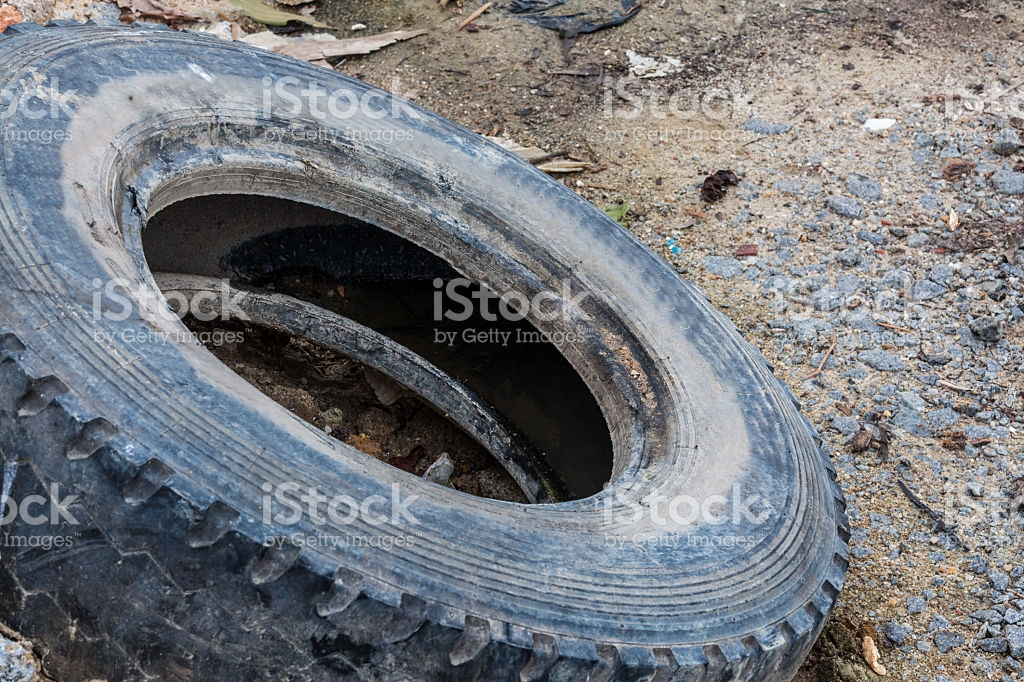tire: (1, 22, 853, 681)
